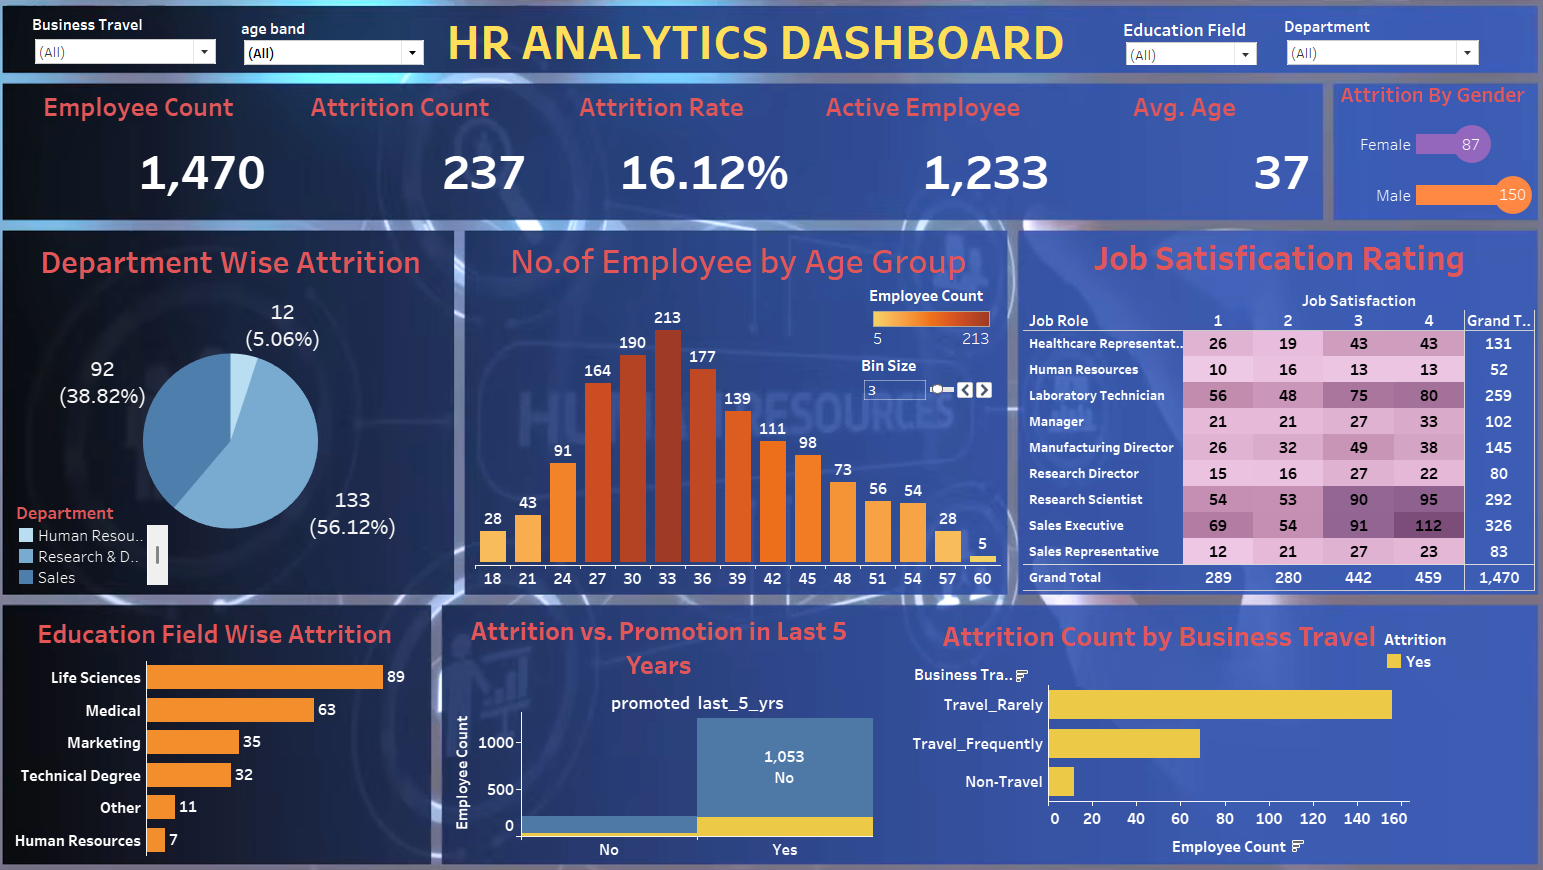

The page's visual inventory and layout, read from the dashboard file:
{"tool":"tableau","page":{"name":"HR ANALYTICS DASHBOARD","canvas":[1580,900],"ordinal":0},"visuals":[{"type":"image","param":"Image/hr analyfinal.png","box":[8,8,1564,884]},{"type":"text","box":[460,25,845,63]},{"type":"filter","title":"Attrition Count by Business Travel","param":"[federated.1fe3wod1783std1g63k3m00voq2a].[none:BusinessTravel:nk]","box":[49,31,187,53]},{"type":"filter","title":"Department Wise Attrition","param":"[federated.1fe3wod1783std1g63k3m00voq2a].[none:Department:nk]","box":[1301,33,198,51]},{"type":"filter","title":"Education Field Wise Attrition","param":"[federated.1fe3wod1783std1g63k3m00voq2a].[none:EducationField:nk]","box":[1140,34,137,48]},{"type":"filter","title":"Attrition vs. Promotion in Last 5 Years","param":"[federated.1fe3wod1783std1g63k3m00voq2a].[none:Calculation_792352069171638272:nk","box":[258,35,186,47]},{"type":"worksheet","title":"Attrition By Gender","mark":"Automatic","rows":["Gender"],"cols":["Calculation_1458321863466102784","Calculation_1458321863466102784"],"box":[1353,93,201,144]},{"type":"worksheet","title":"KPI","mark":"Automatic","box":[25,100,1307,134]},{"type":"worksheet","title":"Job Satisfication Rating","mark":"Square","rows":["JobRole"],"cols":["JobSatisfaction"],"box":[1040,247,512,361]},{"type":"worksheet","title":"No.of Employee by Age Group","mark":"Automatic","rows":["EmployeeCount"],"cols":["Age (bin)"],"box":[492,250,526,357]},{"type":"worksheet","title":"Department Wise Attrition","mark":"Pie","box":[33,253,429,354]},{"type":"legend","title":"No.of Employee by Age Group","param":"[federated.1fe3wod1783std1g63k3m00voq2a].[sum:EmployeeCount:qk]","box":[886,302,125,77]},{"type":"parameter","param":"[Parameters].[Parameter 1]","box":[878,372,134,58]},{"type":"legend","title":"Department Wise Attrition","param":"[federated.1fe3wod1783std1g63k3m00voq2a].[none:Department:nk]","box":[33,517,154,85]},{"type":"worksheet","title":"Attrition vs. Promotion in Last 5 Years","mark":"Automatic","rows":["EmployeeCount"],"cols":["Calculation_792352069173207041"],"box":[461,626,429,252]},{"type":"worksheet","title":"Education Field Wise Attrition","mark":"Automatic","rows":["EducationField"],"cols":["Calculation_1458321863466102784"],"box":[23,629,417,244]},{"type":"worksheet","title":"Attrition Count by Business Travel","mark":"Automatic","rows":["BusinessTravel"],"cols":["EmployeeCount"],"box":[925,630,502,251]},{"type":"legend","title":"Attrition Count by Business Travel","param":"[federated.1fe3wod1783std1g63k3m00voq2a].[none:Attrition:nk]","box":[1401,646,127,57]}]}

Visuals, with their boxes in screenshot pixels (x1, y1, x2, y2), scaled from the page's 1580x900 canvas onto the 1543x870 screenshot:
image: bbox(8, 8, 1535, 862)
text: bbox(449, 24, 1274, 85)
"Attrition Count by Business Travel" filter: bbox(48, 30, 230, 81)
"Department Wise Attrition" filter: bbox(1271, 32, 1464, 81)
"Education Field Wise Attrition" filter: bbox(1113, 33, 1247, 79)
"Attrition vs. Promotion in Last 5 Years" filter: bbox(252, 34, 434, 79)
"Attrition By Gender" worksheet: bbox(1321, 90, 1518, 229)
"KPI" worksheet: bbox(24, 97, 1301, 226)
"Job Satisfication Rating" worksheet (Square marks): bbox(1016, 239, 1516, 588)
"No.of Employee by Age Group" worksheet: bbox(480, 242, 994, 587)
"Department Wise Attrition" worksheet (Pie marks): bbox(32, 245, 451, 587)
"No.of Employee by Age Group" legend: bbox(865, 292, 987, 366)
parameter: bbox(857, 360, 988, 416)
"Department Wise Attrition" legend: bbox(32, 500, 183, 582)
"Attrition vs. Promotion in Last 5 Years" worksheet: bbox(450, 605, 869, 849)
"Education Field Wise Attrition" worksheet: bbox(22, 608, 430, 844)
"Attrition Count by Business Travel" worksheet: bbox(903, 609, 1394, 852)
"Attrition Count by Business Travel" legend: bbox(1368, 624, 1492, 680)
